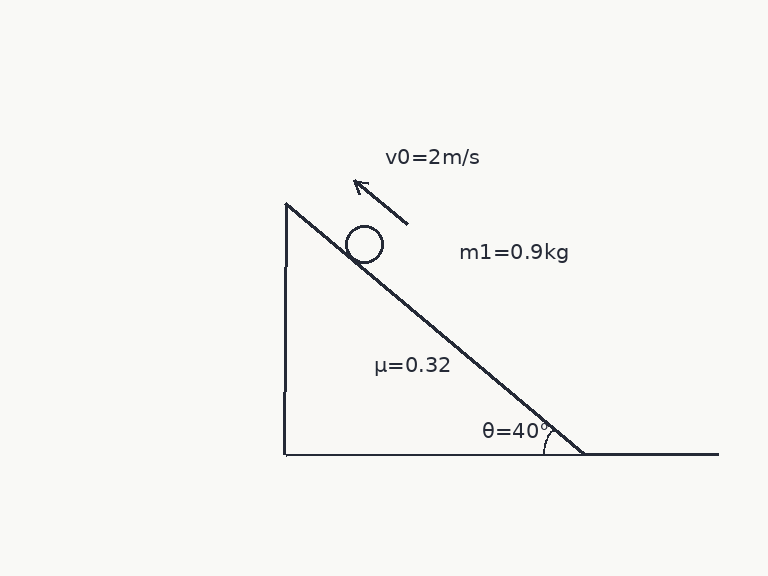ball: (343, 223, 385, 265)
ramp: (283, 201, 586, 456)
